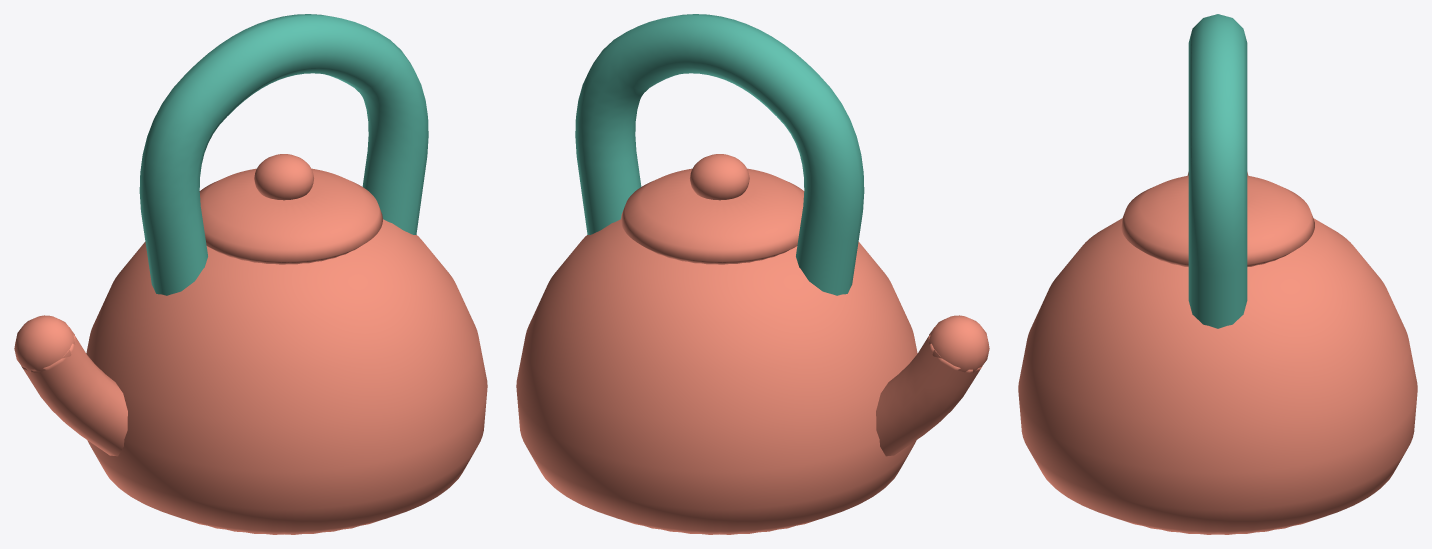
The model's file is kettle_b.glb.
3 views of the same model, side by side, from view 1: azimuth 30°, elevation 25°; view 2: azimuth 150°, elevation 25°; view 3: azimuth 270°, elevation 25° (orthographic).
Visible parts, largest first — view 1: body; view 2: body; view 3: body.
Part boxes in pixels (bbox=[...]): body: bbox=[14, 14, 487, 534]; body: bbox=[516, 14, 989, 534]; body: bbox=[1018, 14, 1417, 534].
Size of the model in its own units: 0.306 by 0.303 by 0.2439.
